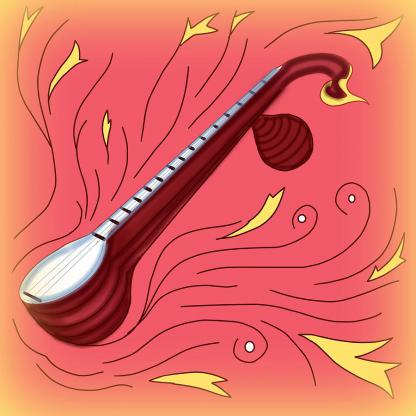Veena: (15, 96, 265, 319)
